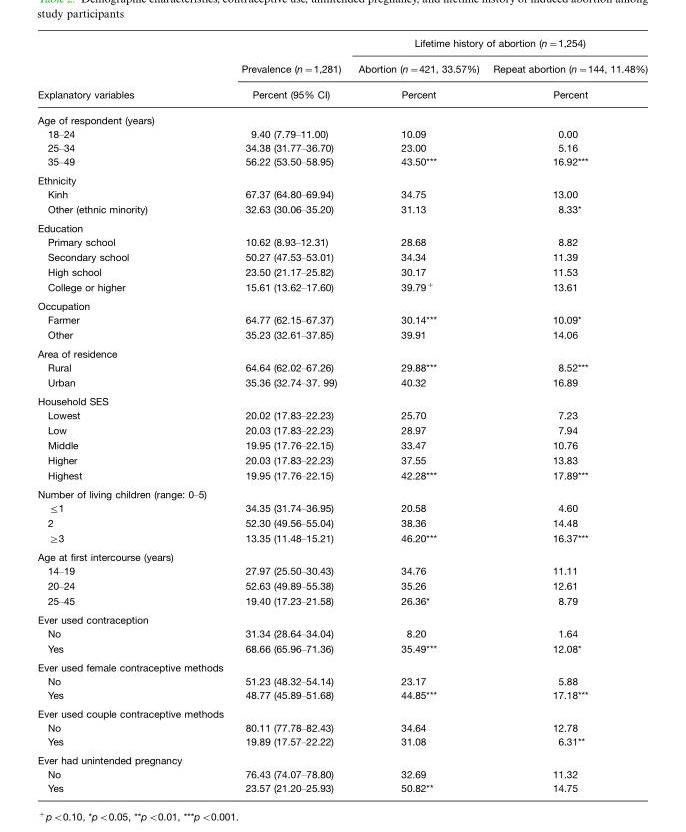table: (36, 36, 647, 793)
table column: (36, 36, 231, 793), (485, 36, 647, 793), (349, 36, 485, 793), (231, 36, 349, 793)
table column header: (36, 36, 647, 107)
table projected row header: (36, 107, 647, 126), (36, 218, 647, 234), (36, 296, 647, 312), (36, 484, 647, 500), (36, 704, 647, 720), (36, 171, 647, 186), (36, 344, 647, 359), (36, 392, 647, 407), (36, 548, 647, 563), (36, 610, 647, 625), (36, 658, 647, 673), (36, 751, 647, 766)
table row: (36, 55, 647, 81), (36, 81, 647, 107), (36, 36, 647, 55), (36, 107, 647, 126), (36, 278, 647, 296), (36, 326, 647, 344), (36, 374, 647, 392), (36, 530, 647, 548), (36, 592, 647, 610), (36, 640, 647, 658), (36, 154, 647, 171), (36, 201, 647, 218), (36, 467, 647, 484), (36, 687, 647, 704), (36, 734, 647, 751), (36, 218, 647, 234), (36, 296, 647, 312), (36, 484, 647, 500), (36, 704, 647, 720), (36, 171, 647, 186), (36, 186, 647, 201), (36, 248, 647, 263), (36, 263, 647, 278), (36, 344, 647, 359), (36, 359, 647, 374), (36, 392, 647, 407), (36, 407, 647, 422), (36, 422, 647, 437), (36, 437, 647, 452), (36, 452, 647, 467), (36, 500, 647, 515), (36, 515, 647, 530), (36, 548, 647, 563), (36, 577, 647, 592), (36, 610, 647, 625), (36, 625, 647, 640), (36, 658, 647, 673), (36, 751, 647, 766), (36, 126, 647, 140), (36, 140, 647, 154), (36, 234, 647, 248), (36, 312, 647, 326), (36, 563, 647, 577), (36, 673, 647, 687), (36, 720, 647, 734), (36, 766, 647, 780), (36, 780, 647, 793)
table spanning cell: (36, 36, 231, 107), (485, 55, 647, 107), (231, 36, 349, 107), (349, 55, 485, 107), (349, 36, 647, 55)
